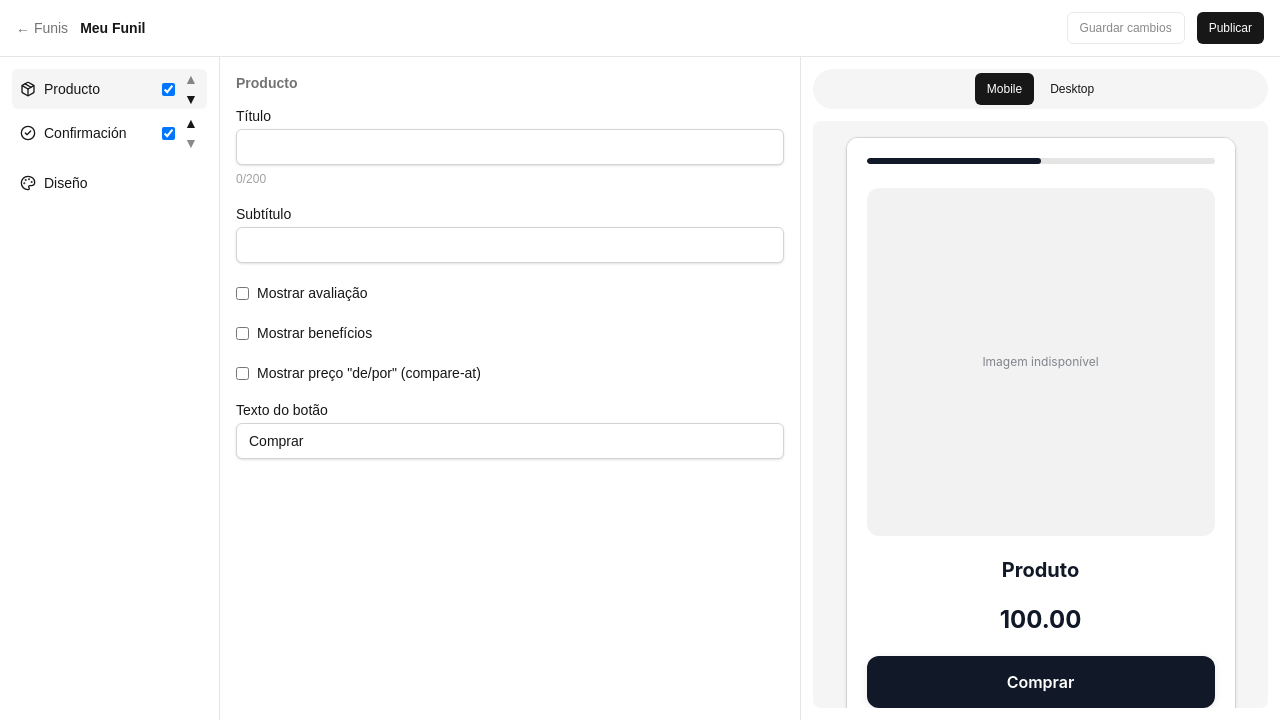
Scenario: FunnelBuilder › 'Mantener mis cambios' fecha o modal sem descartar o draft (dirty continua true)
Step 1. Type "!" into the field labelled "Texto do botão" → (510, 441), box [236,423,784,459]
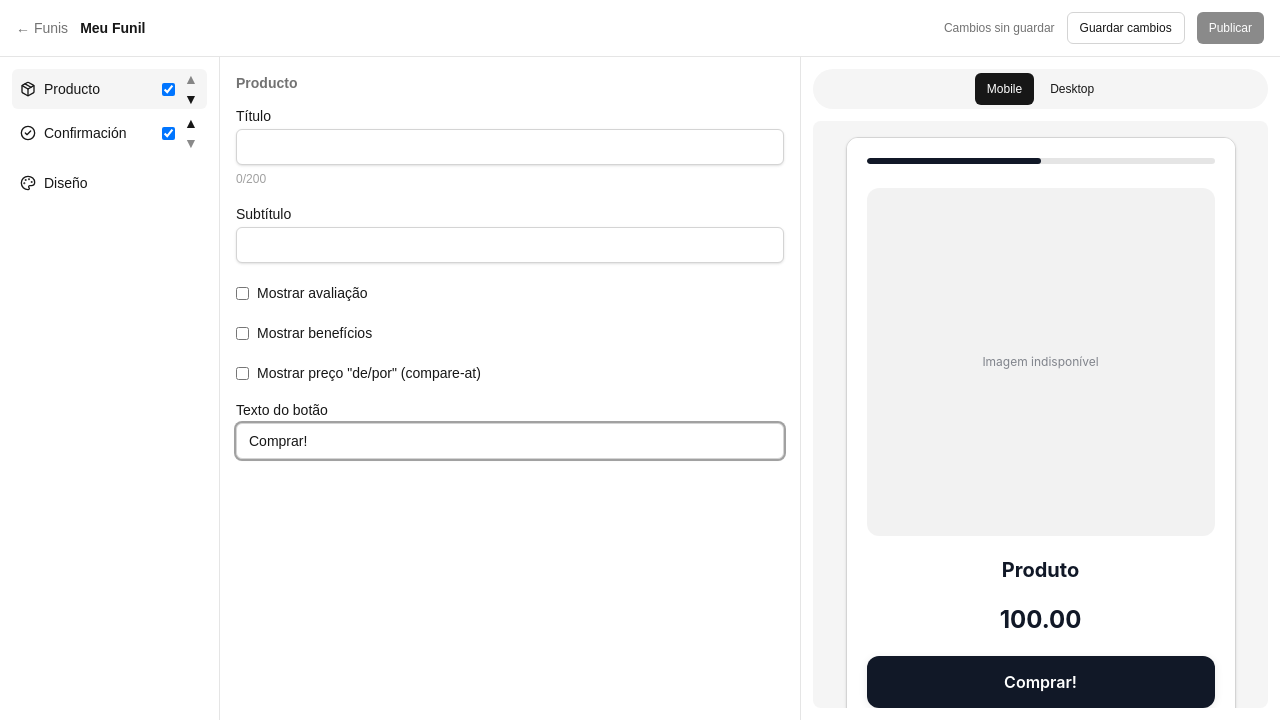
Step 2. Click the button "Guardar cambios" → (1126, 28), box [1067,12,1185,44]
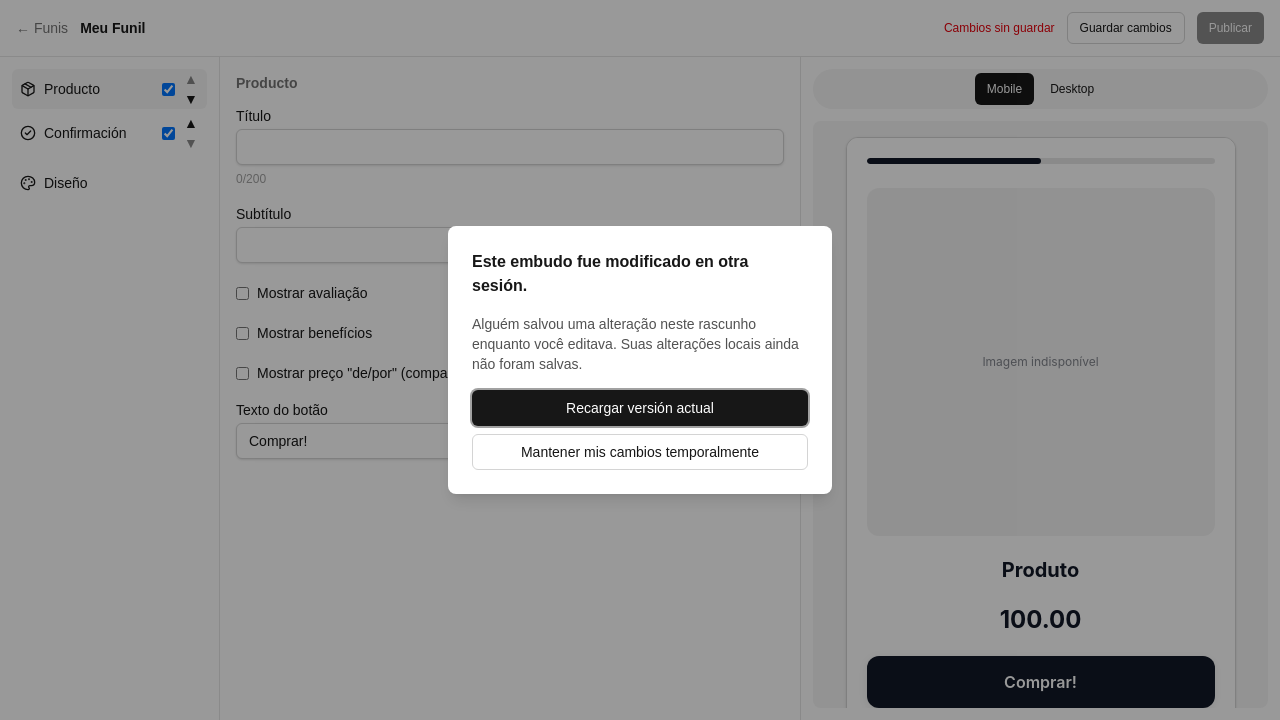
Result: the heading "Este embudo fue modificado en otra sesión." is shown at [472,253,748,294]
Step 3. Click the button "Mantener mis cambios temporalmente" → (640, 452), box [472,434,808,470]
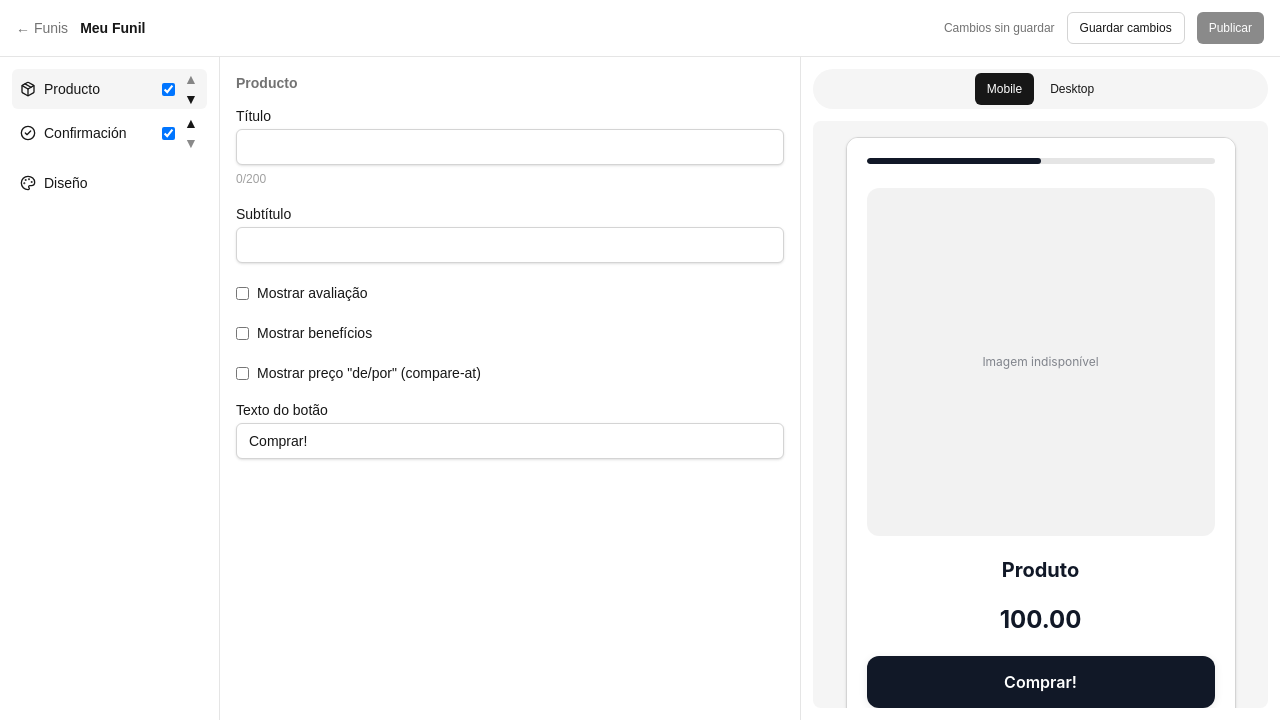
Result: the text "Cambios sin guardar" is shown at [944,20,1055,36]
Result: the heading "Este embudo fue modificado en otra sesión." is gone
